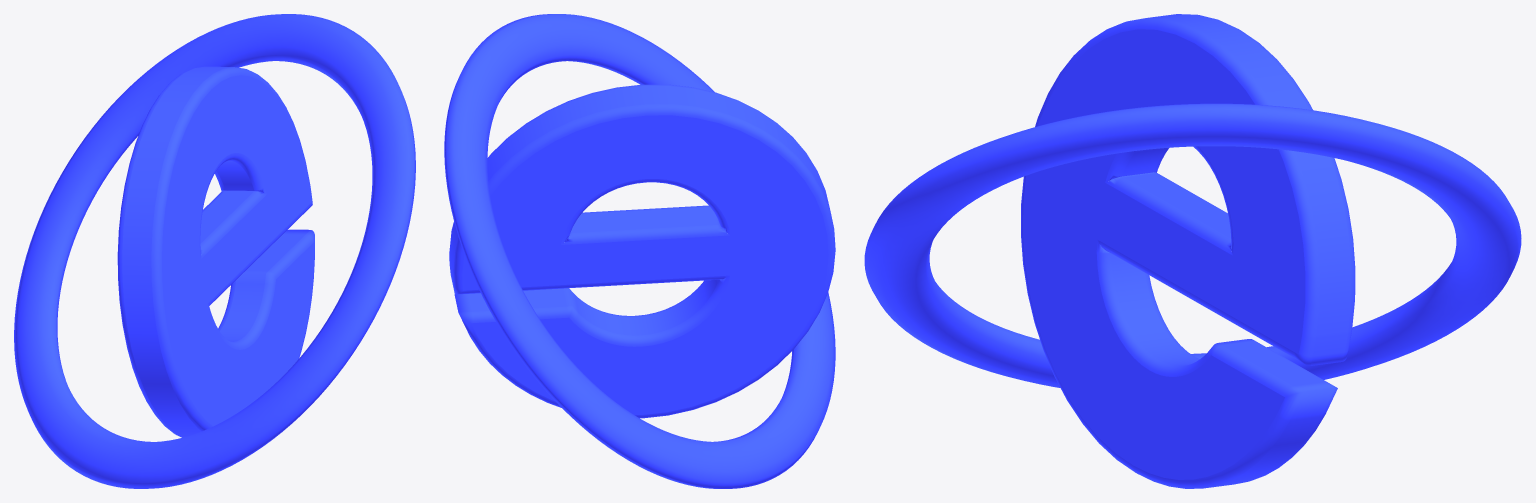
The model's file is IE avatar 2_ blue_data.glb.
3 views of the same model, side by side, from view 1: azimuth 30°, elevation 25°; view 2: azimuth 150°, elevation 25°; view 3: azimuth 270°, elevation 25° (orthographic). The views are drawn at different scales.
Visible parts, largest first — view 1: Curve; view 2: Curve; view 3: Curve.
Boxes of the visible parts, x1,y1,x2,y2 form: Curve: (14, 14, 415, 488); Curve: (444, 14, 835, 488); Curve: (864, 14, 1521, 488).
Size of the model in its own units: 0.6316 by 0.744 by 0.9611.
